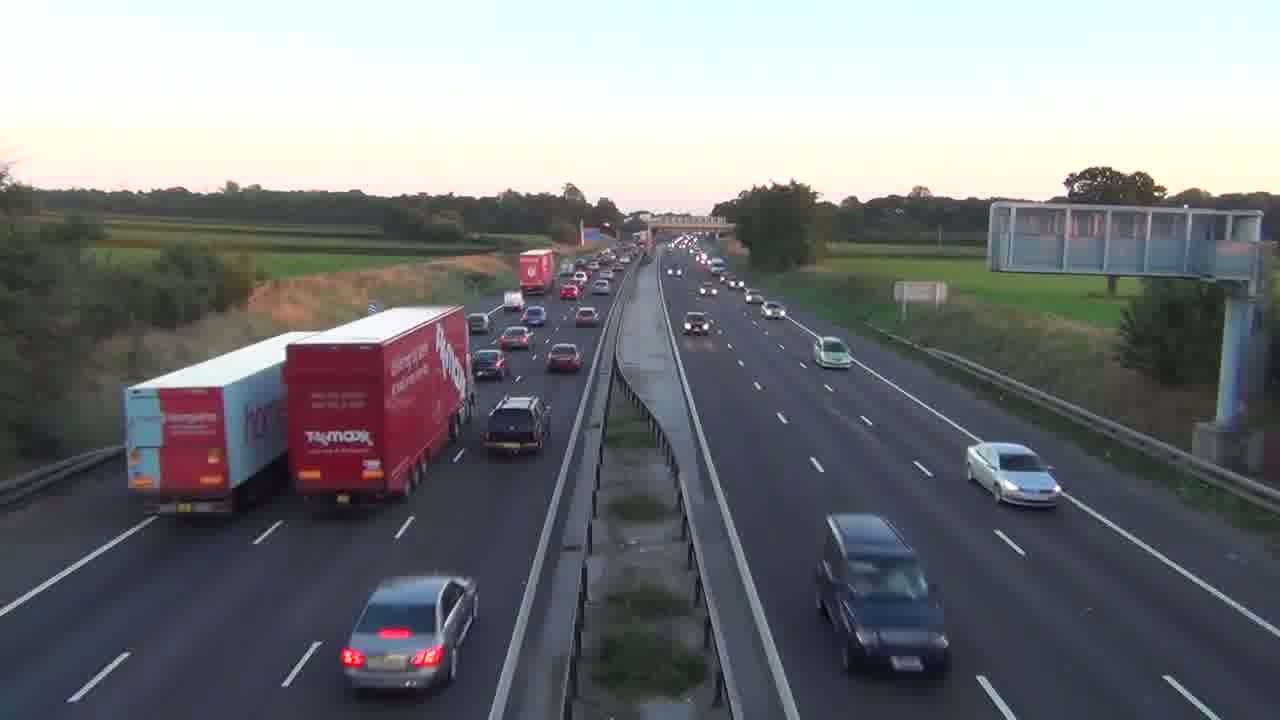car: (337, 573, 480, 698), (965, 440, 1062, 510), (482, 393, 551, 457), (813, 336, 853, 370), (471, 348, 508, 382), (545, 342, 582, 373), (497, 325, 532, 352), (524, 304, 547, 327), (574, 306, 599, 327)
truck: (284, 303, 471, 502), (813, 512, 951, 676)
